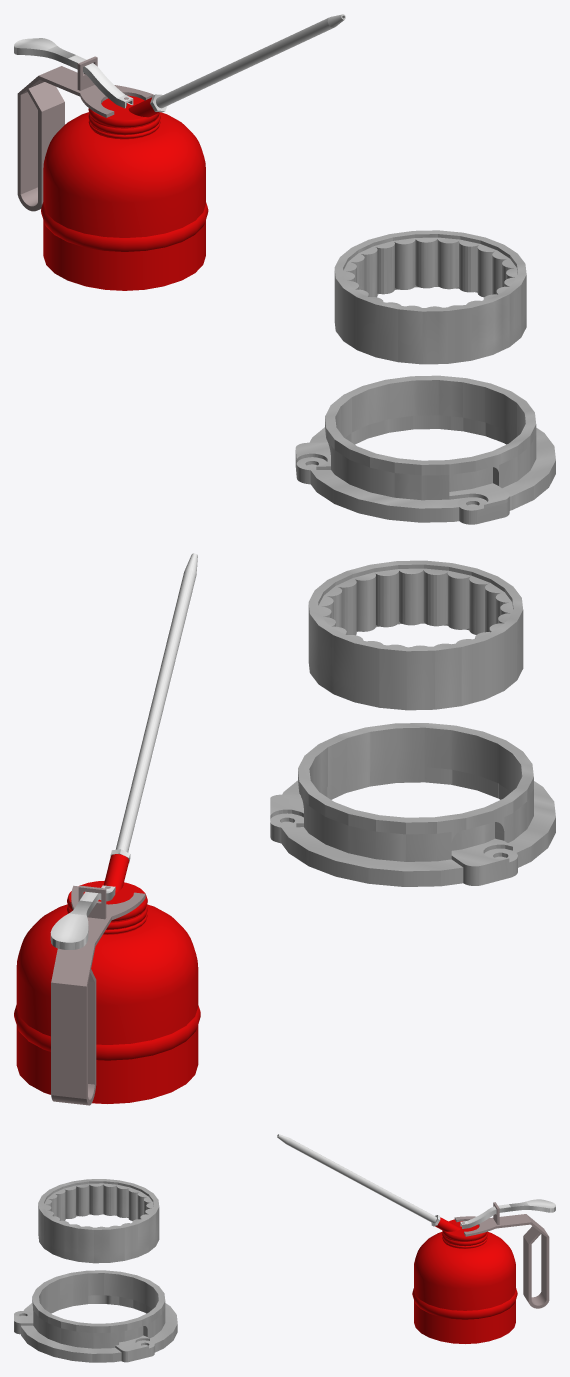
3 views of the same model, one above another, from view 1: azimuth 30°, elevation 25°; view 2: azimuth 150°, elevation 25°; view 3: azimuth 270°, elevation 25° (orthographic). The views are drawn at different scales.
Visible parts, largest first — view 1: Oiler, 1.001, 2.001; view 2: Oiler, 1.001, 2.001; view 3: Oiler, 1.001, 2.001.
Boxes of the visible parts, box(x1,y1,x2,y2) form: Oiler: box(14, 14, 345, 290); 1.001: box(295, 375, 555, 524); 2.001: box(334, 230, 526, 364); Oiler: box(14, 553, 200, 1105); 1.001: box(270, 723, 555, 886); 2.001: box(308, 560, 523, 710); Oiler: box(277, 1134, 555, 1343); 1.001: box(14, 1270, 177, 1362); 2.001: box(38, 1179, 159, 1263).
Size of the model in its own units: 232 by 344 by 789.
Materials: 6 (3 with a texture image).
